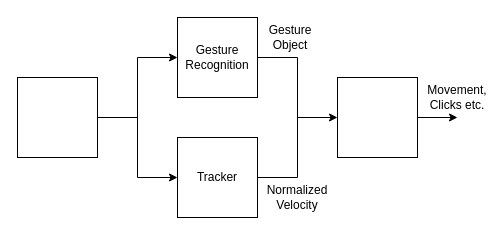
Image size: 504x235. Some labels were removed from this diagram. Here are the shapes that lost their labels. From the top down, the centre of each, then its label:
At (57,117): "Camera".
At (377,117): "Camera Mouse".
